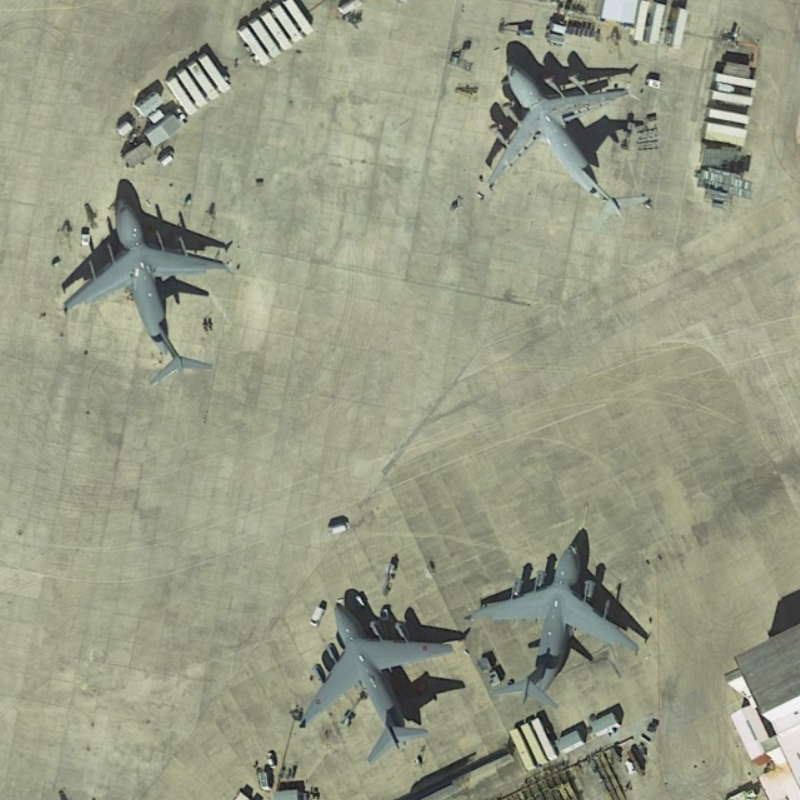A3: (51, 187, 243, 382), (468, 525, 647, 713), (290, 580, 461, 773), (483, 50, 656, 235)
